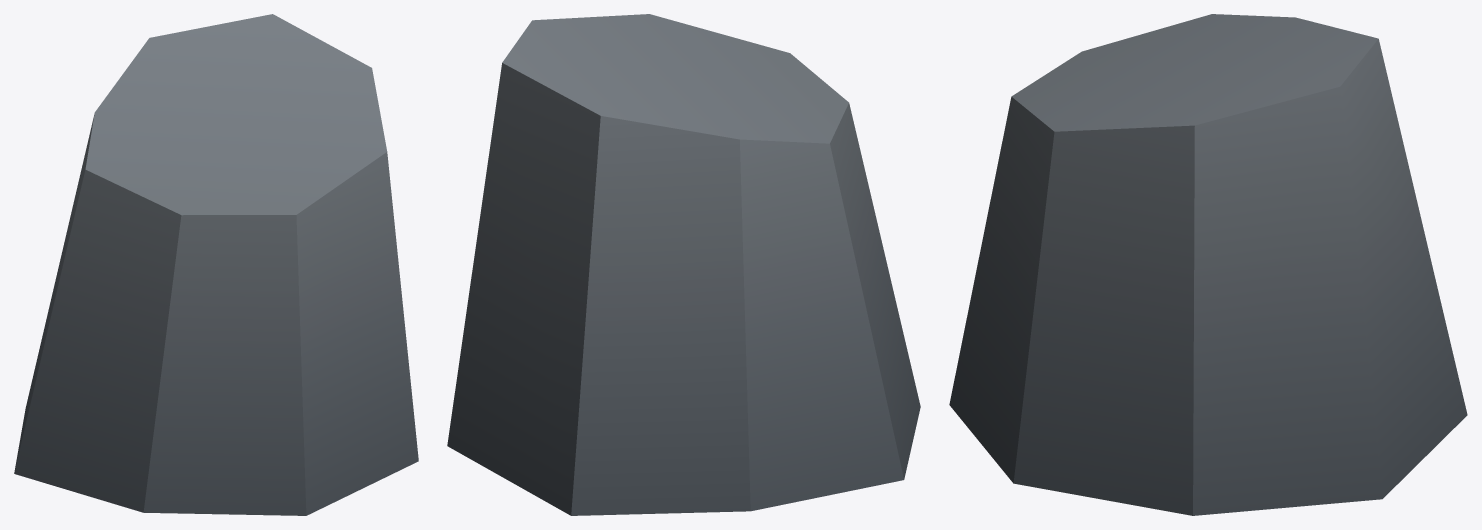
Rendered from rock_TallSlanted.fbx.
The picture shows the model from 3 angles, left to right: view 1: azimuth 30°, elevation 25°; view 2: azimuth 150°, elevation 25°; view 3: azimuth 270°, elevation 25°; orthographic projection. The views are drawn at different scales.
Parts seen in each view (by area): view 1: tallSlantedRock; view 2: tallSlantedRock; view 3: tallSlantedRock.
Part boxes in pixels (left/top/right/bottom): tallSlantedRock: left=14, top=14, right=418, bottom=515; tallSlantedRock: left=447, top=14, right=920, bottom=515; tallSlantedRock: left=949, top=14, right=1467, bottom=515.
Bounding box in the file's own units: 145 × 127 × 151.
